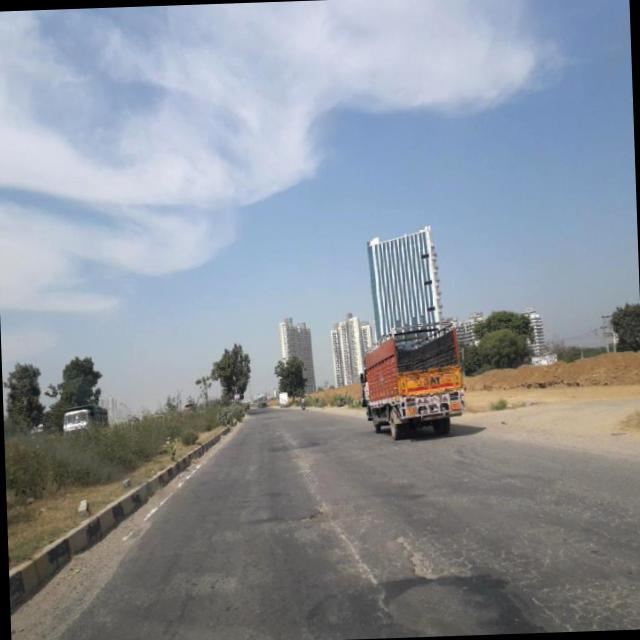crack: (391, 479, 640, 636), (296, 455, 396, 631), (123, 591, 207, 640), (391, 522, 451, 582)
